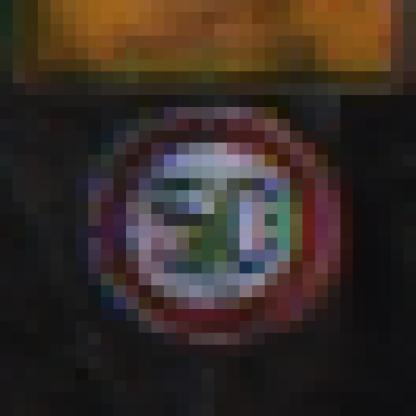Speed Limit 50: (100, 113, 333, 336)
